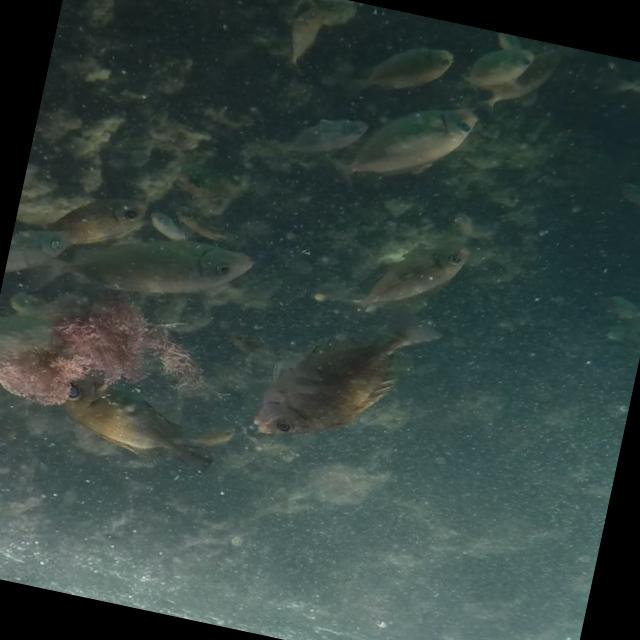Sokar Baligi: (228, 269, 459, 486)
